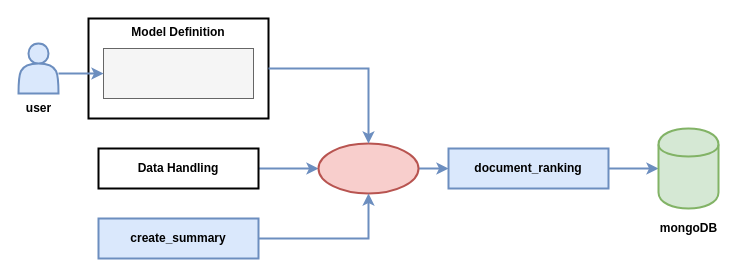
Some shapes in this 745 by 276 pixel diagram are drawn without their labels. Here are the shapes that lost their labels. From the top down, the centre of each, then its label:
At point (178, 73): "Topic Name Sub-Topic Name Sub-Topic Keywords".
At point (368, 168): "keywords".
